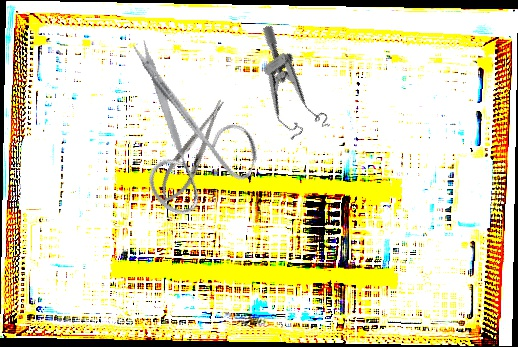Iris Scissors: (77, 36, 283, 235)
Needle Holder: (150, 93, 236, 212)
Speculum: (228, 23, 340, 150)
